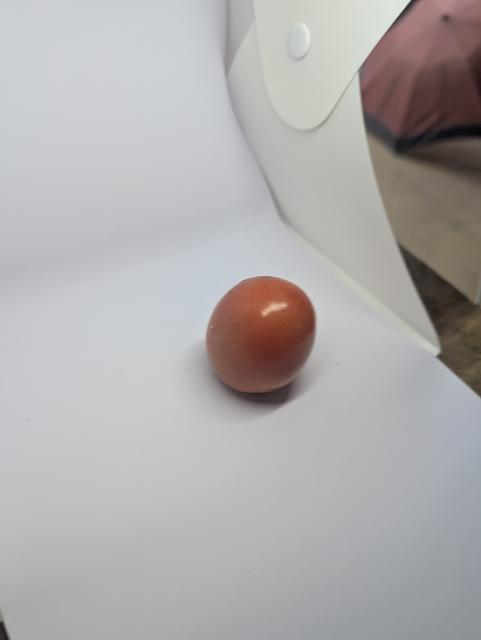red: (198, 254, 320, 413)
